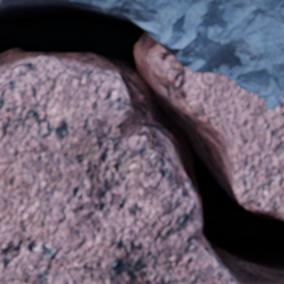broken_brick: (0, 60, 237, 283), (151, 49, 283, 218)
crack: (0, 1, 283, 283)
